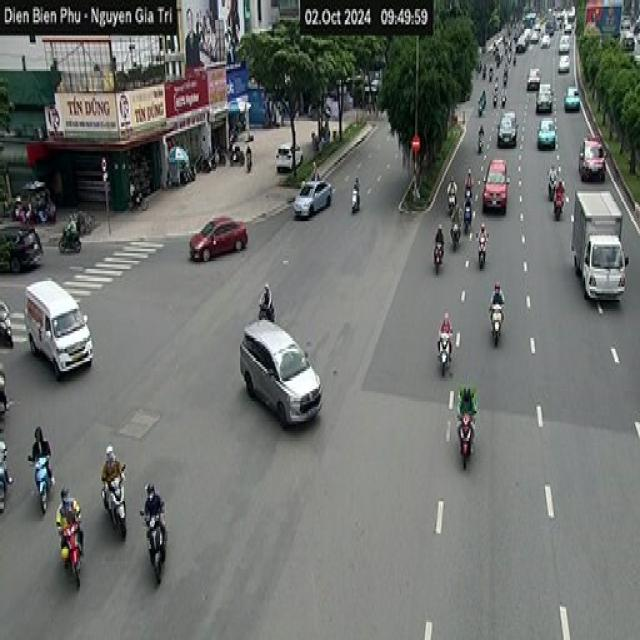car: (231, 320, 325, 434), (20, 279, 100, 387), (181, 221, 264, 262), (0, 223, 51, 274), (294, 168, 338, 226), (578, 126, 612, 181), (481, 154, 508, 217), (274, 144, 310, 174), (498, 110, 523, 146), (537, 114, 559, 152), (534, 81, 560, 111), (564, 84, 583, 118), (516, 29, 532, 61), (556, 33, 575, 56), (525, 65, 543, 87), (542, 31, 556, 53), (558, 59, 572, 78)
motorcycle: (145, 524, 170, 591), (457, 417, 481, 481), (28, 461, 54, 519), (57, 532, 81, 594), (106, 478, 127, 546), (432, 334, 453, 386), (0, 312, 15, 357), (430, 251, 451, 283), (488, 303, 502, 349), (0, 394, 14, 436), (451, 231, 466, 270), (61, 227, 81, 256), (476, 243, 492, 278), (348, 190, 366, 220), (0, 467, 10, 516), (470, 140, 487, 168), (551, 195, 565, 222), (256, 300, 279, 316), (446, 196, 460, 222), (464, 211, 477, 239), (461, 190, 479, 208), (549, 183, 559, 205), (244, 162, 258, 177), (490, 98, 501, 112), (475, 110, 487, 122)
person: (99, 445, 127, 499), (54, 490, 80, 546), (458, 376, 479, 430), (140, 477, 166, 520), (440, 288, 458, 349), (0, 285, 17, 339), (30, 420, 49, 463), (58, 209, 82, 241), (0, 433, 15, 484), (490, 286, 509, 326), (0, 358, 14, 409), (262, 274, 280, 310), (432, 219, 448, 259), (14, 194, 37, 218), (348, 175, 366, 201), (451, 166, 462, 208), (462, 170, 476, 202), (479, 90, 492, 119), (472, 124, 486, 150), (243, 139, 256, 167), (478, 225, 488, 259), (548, 166, 558, 196), (554, 181, 564, 205)
truck: (572, 190, 637, 296)
